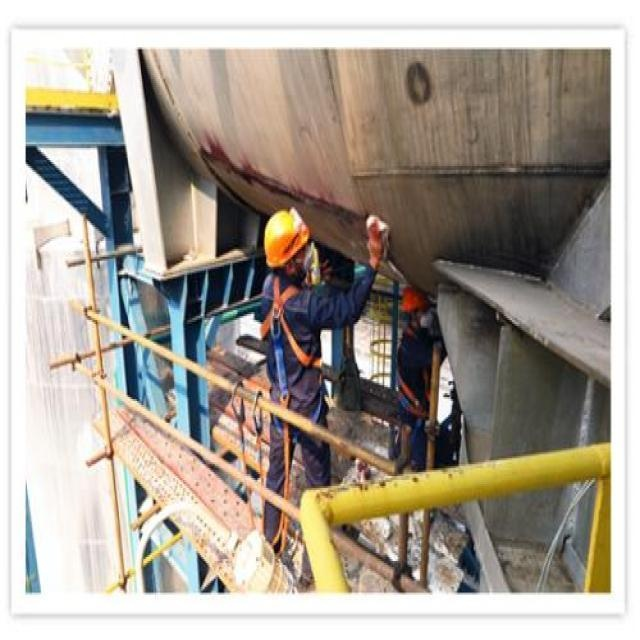Arnes_seguridad: (255, 271, 324, 381)
